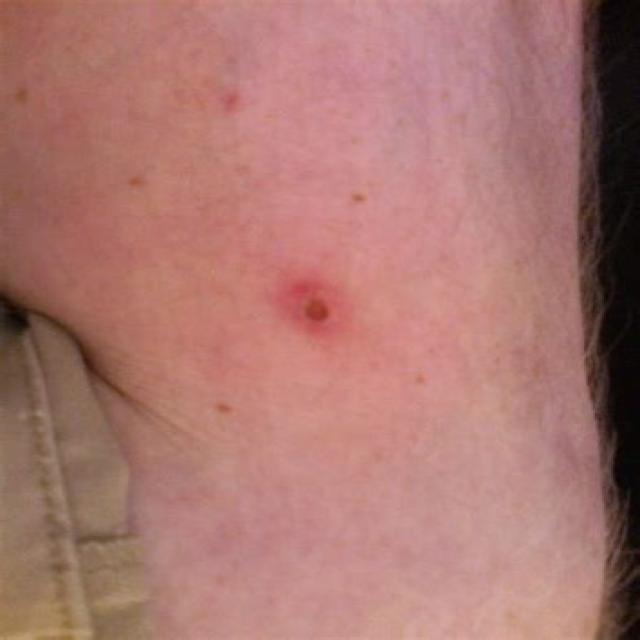kene: (270, 274, 353, 343)
